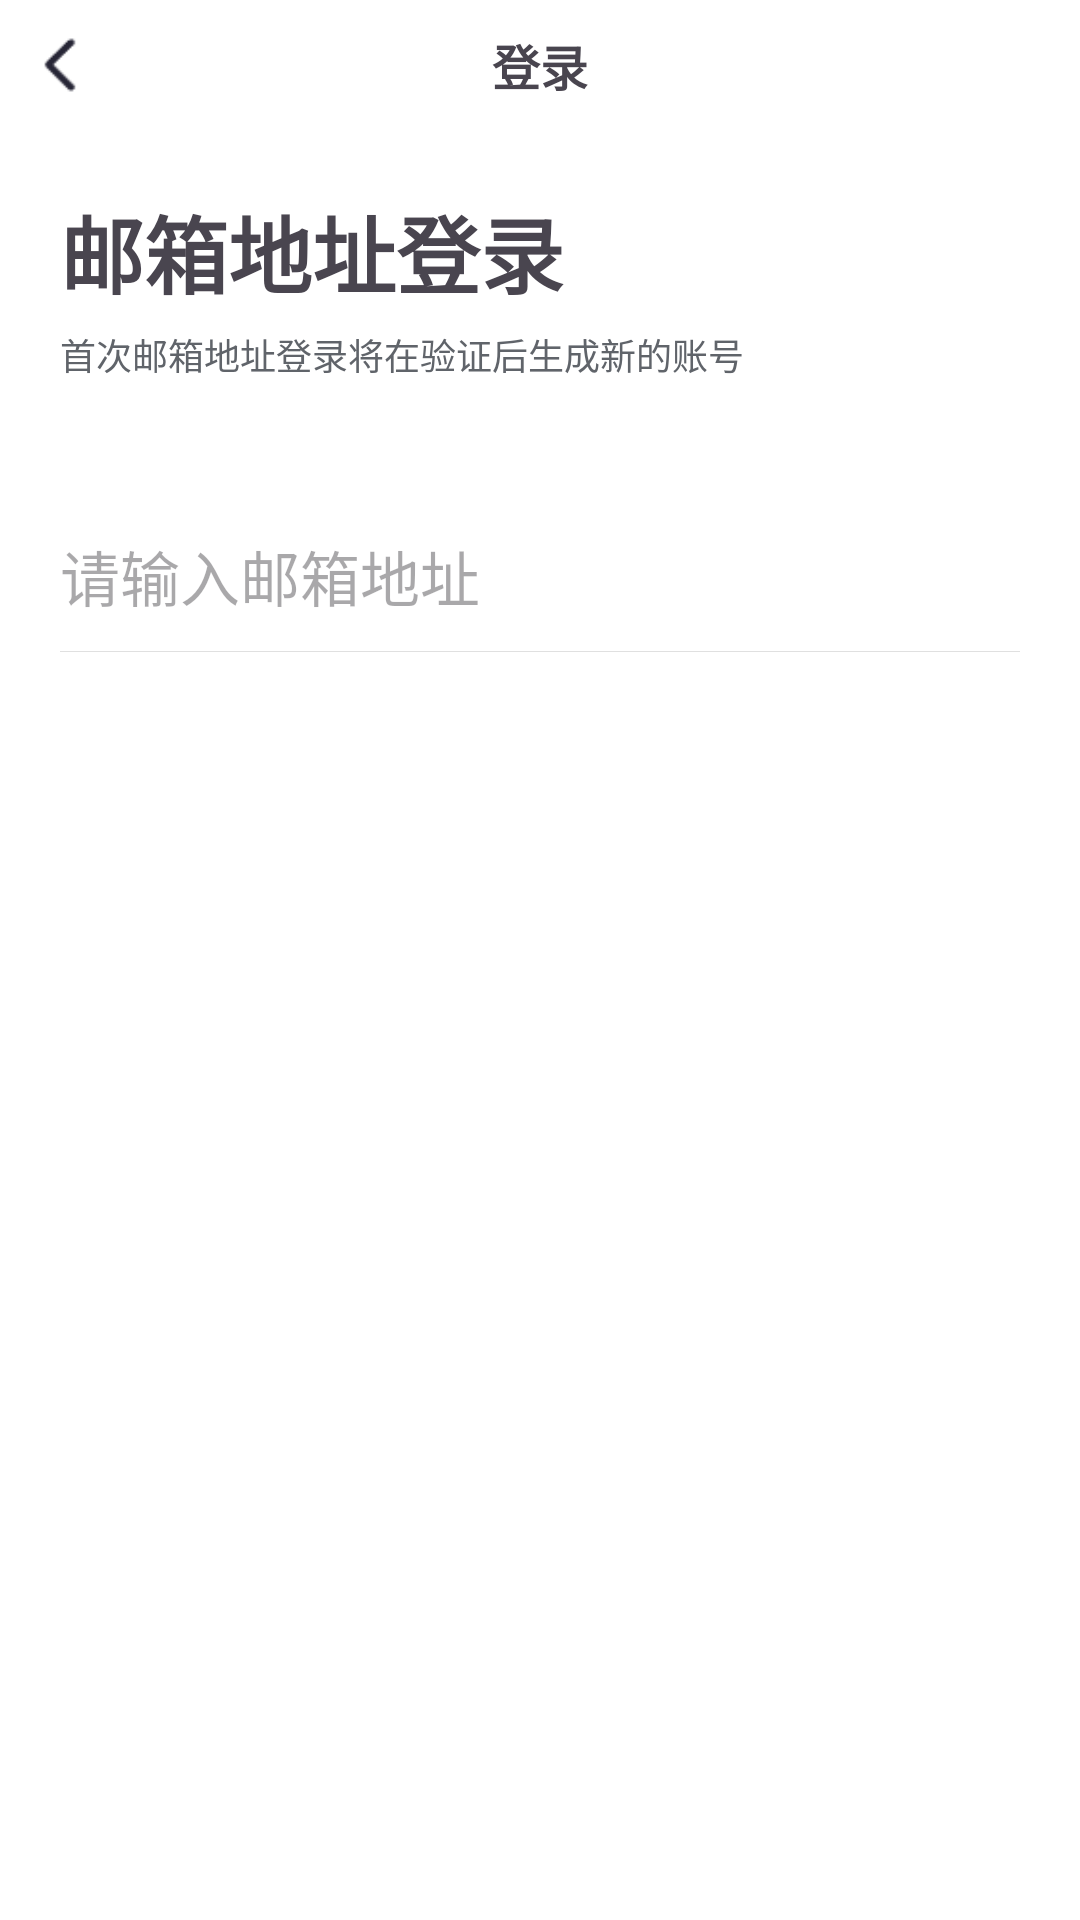

Where to tap for icons on this 1080px×1920px app screen, as (x=x, y=y):
back arrow: (x=60, y=65)
